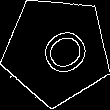O_SW: (24, 19, 89, 83)
